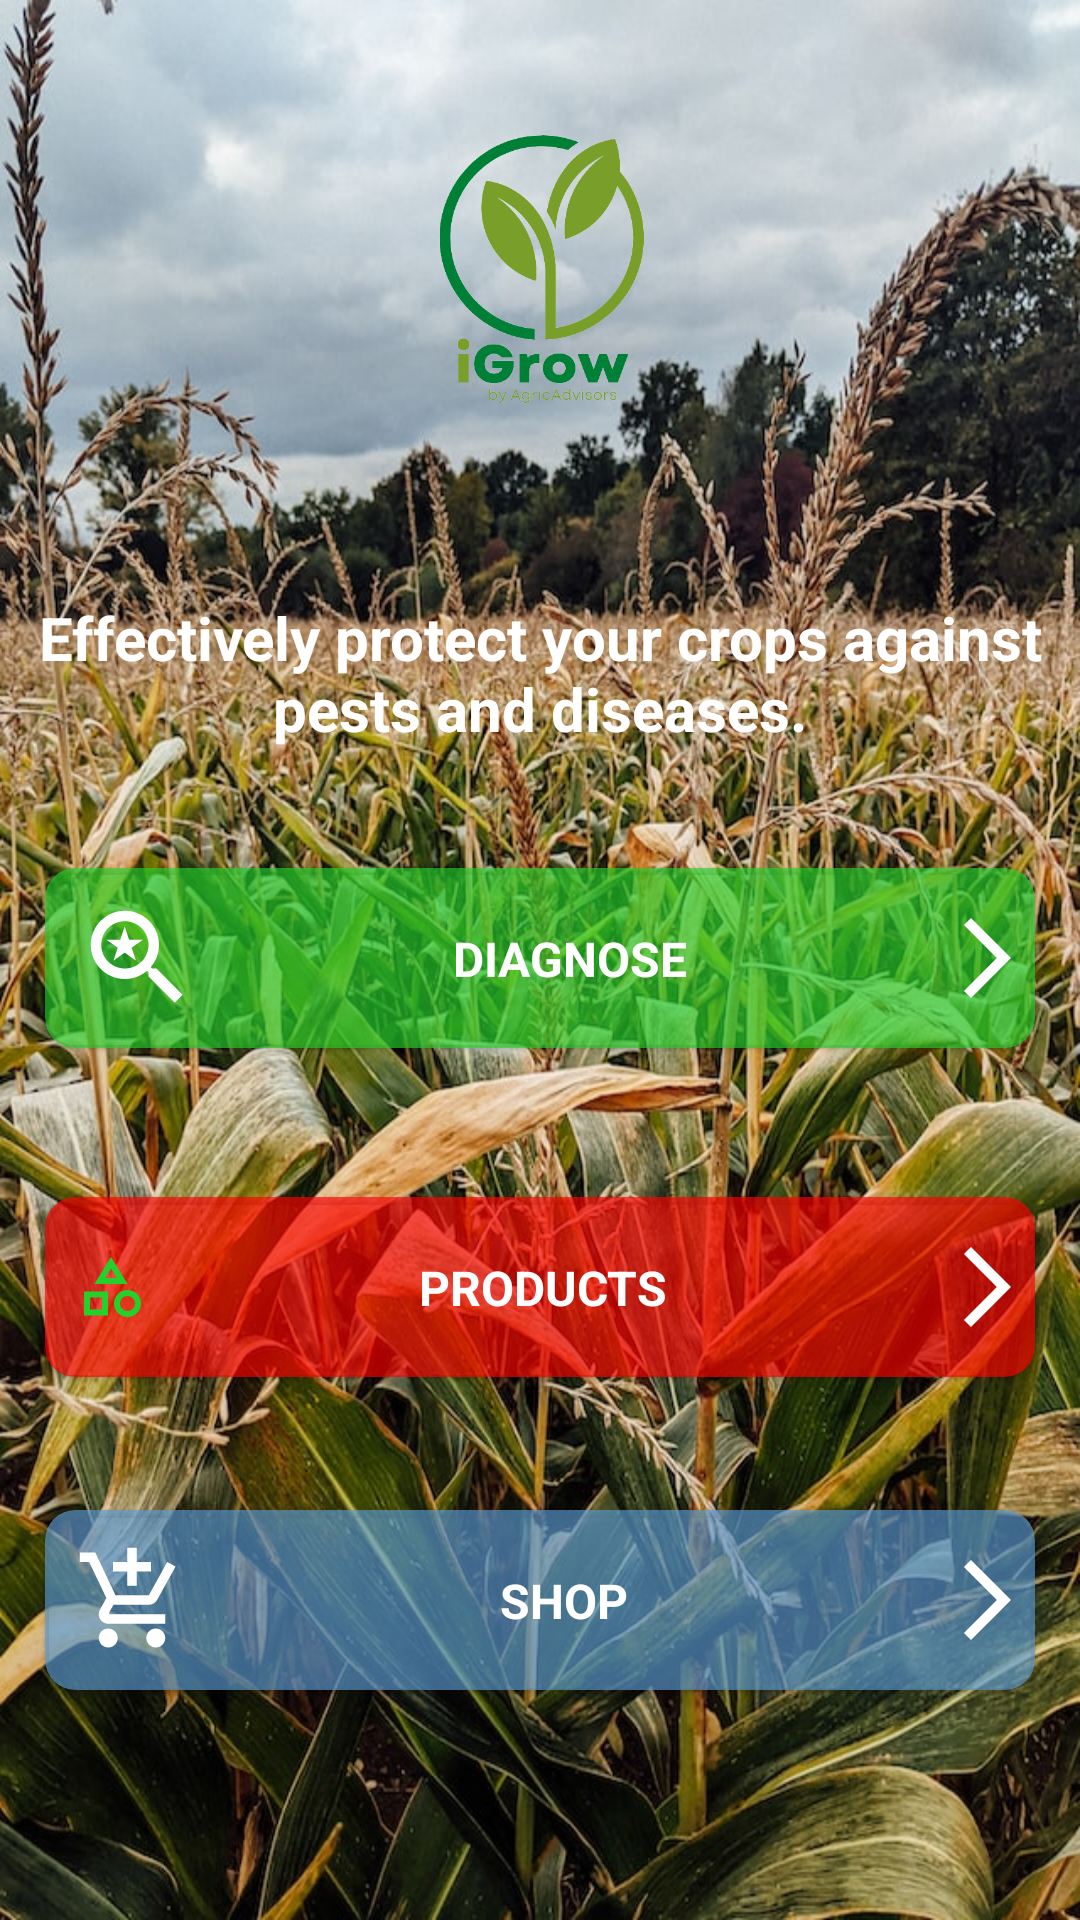

Screen size 1080w x 1920h. Icon name, then its center in pixels as [x,y]:
add shopping: [132,1600]
diagnose: [138,958]
forward: [987,958], [987,1287], [987,1600]
product: [111,1287]
